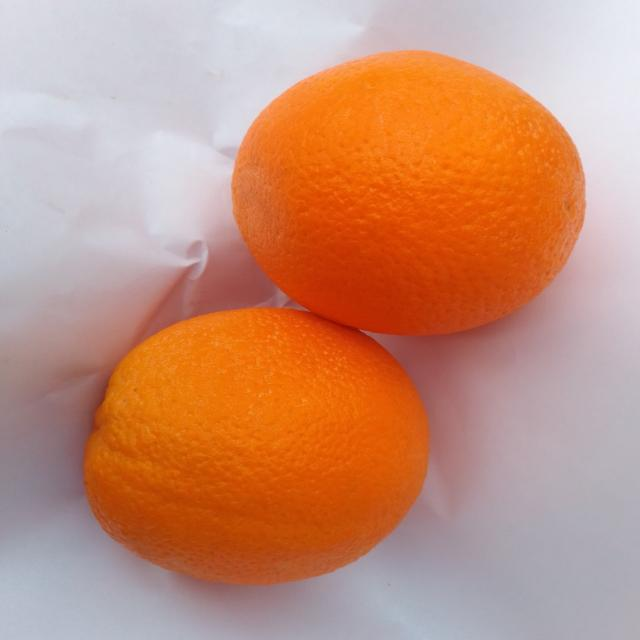orange: (233, 51, 585, 334), (85, 308, 428, 584)
